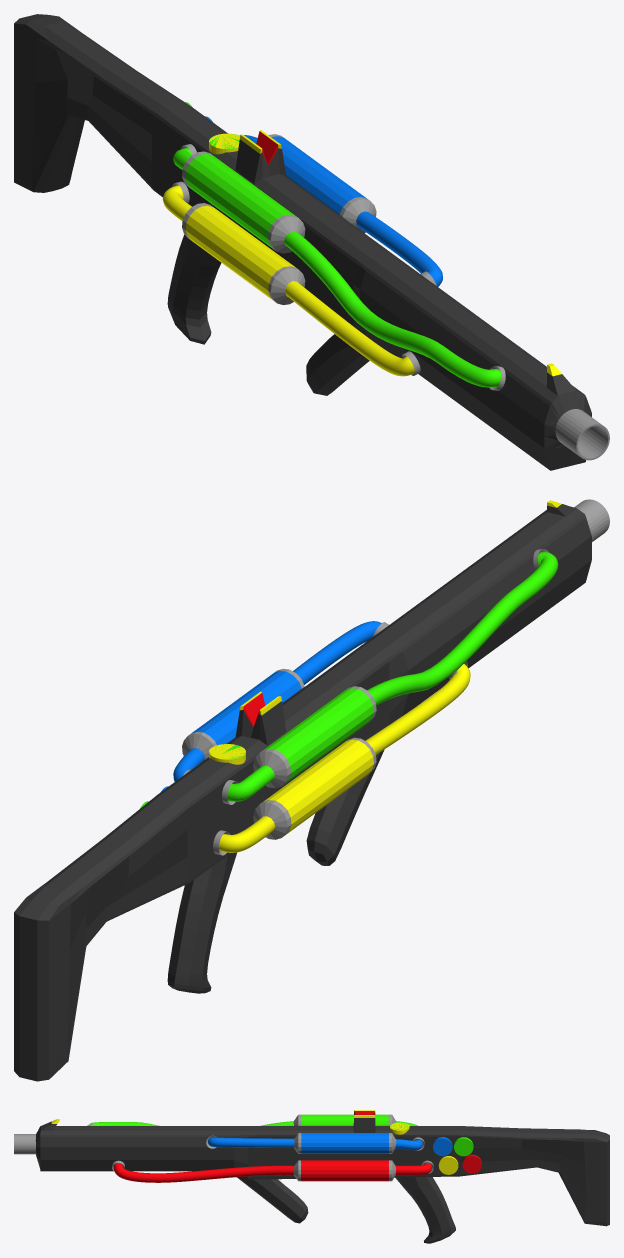
File: Paintballgun 1.fbx
The picture shows the model from 3 angles, top to bottom: view 1: azimuth 30°, elevation 25°; view 2: azimuth 150°, elevation 25°; view 3: azimuth 270°, elevation 25°; orthographic projection. The views are drawn at different scales.
Parts seen in each view (by area): view 1: Body, TopRightPaintChamber, BottomLeftPainChamber, TopRightFrontPipe, Grip, TopLeftPaintChamber, BottomRightFrontPipe, FrontGrip, Barrel, RearSight, TopLeftFrontPipe, BottomRightRearPipe; view 2: Body, TopRightPaintChamber, BottomLeftPainChamber, Grip, TopRightFrontPipe, TopLeftPaintChamber, FrontGrip, BottomRightFrontPipe, RearSight, TopLeftFrontPipe, BottomRightRearPipe, TopRightRearPipe (+1 smaller); view 3: Body, BottomLeftPaintChamber, TopLeftPaintChamber, Grip, BottomLeftFrontPipe, FrontGrip, TopRightPaintChamber, TopLeftFrontPipe, RearSight, Barrel, BottomLeftRearPipe, TopRightFrontPipe (+6 smaller).
Boxes of the visible parts, x1,y1,x2,y2 form: Body: [14, 14, 591, 470]; TopRightPaintChamber: [182, 151, 305, 253]; BottomLeftPainChamber: [182, 203, 305, 304]; TopRightFrontPipe: [284, 231, 501, 387]; Grip: [167, 234, 221, 344]; TopLeftPaintChamber: [268, 134, 376, 233]; BottomRightFrontPipe: [285, 281, 414, 376]; FrontGrip: [306, 334, 380, 395]; Barrel: [555, 409, 609, 460]; RearSight: [235, 130, 286, 183]; TopLeftFrontPipe: [356, 211, 442, 286]; BottomRightRearPipe: [162, 185, 191, 221]; Body: [14, 507, 591, 1081]; TopRightPaintChamber: [253, 686, 376, 788]; BottomLeftPainChamber: [253, 737, 376, 839]; Grip: [167, 852, 237, 993]; TopRightFrontPipe: [367, 552, 558, 705]; TopLeftPaintChamber: [182, 668, 304, 759]; FrontGrip: [306, 749, 384, 865]; BottomRightFrontPipe: [365, 664, 470, 754]; RearSight: [235, 691, 286, 745]; TopLeftFrontPipe: [293, 621, 381, 684]; BottomRightRearPipe: [219, 816, 274, 852]; TopRightRearPipe: [227, 765, 274, 801]; Body: [35, 1126, 609, 1226]; BottomLeftPaintChamber: [293, 1160, 395, 1181]; TopLeftPaintChamber: [294, 1133, 396, 1153]; Grip: [395, 1177, 455, 1243]; BottomLeftFrontPipe: [113, 1163, 293, 1182]; FrontGrip: [237, 1176, 308, 1223]; TopRightPaintChamber: [293, 1114, 396, 1125]; TopLeftFrontPipe: [208, 1137, 294, 1147]; RearSight: [353, 1110, 375, 1132]; Barrel: [14, 1134, 35, 1154]; BottomLeftRearPipe: [395, 1163, 432, 1175]; TopRightFrontPipe: [89, 1121, 293, 1125].
Size of the model in its own units: 330 by 734 by 3052.
